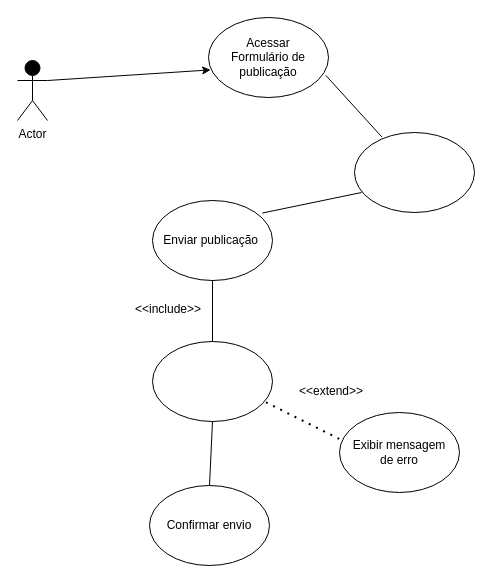
This 492x583 diagram has some shape labels left out. The centre of each missing label's shape, as x and y in pixels:
Preencher dados do Item (descrição, local, data, imagem): [414,172]
Validar dados: [212,381]
